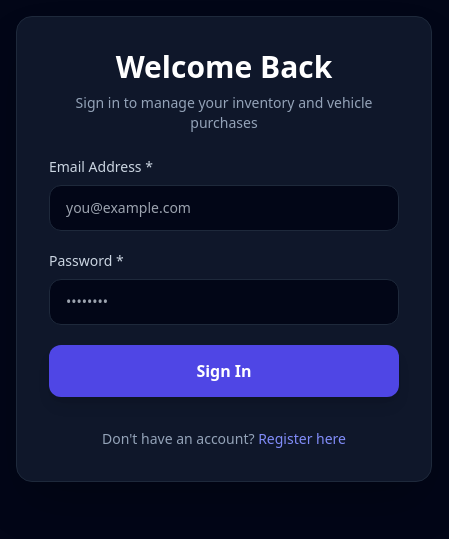
Test: LoginPage Component Unit & Integration Tests › shows validation error messages when submitting empty form
Click the button "Sign In" at (224, 371), box [49,345,399,397]
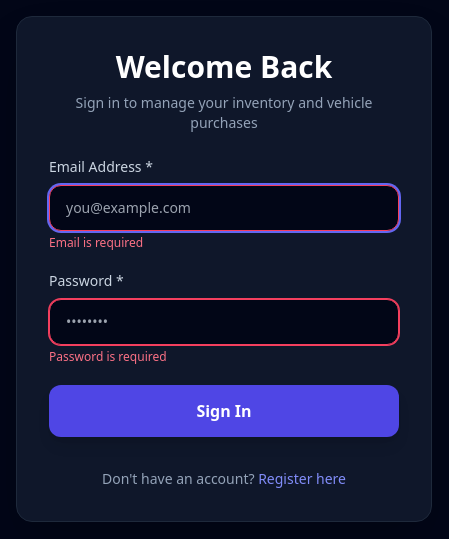
Expected: the text "Email is required" is shown, [49,234,143,251]
Expected: the text "Password is required" is shown, [49,348,167,365]
